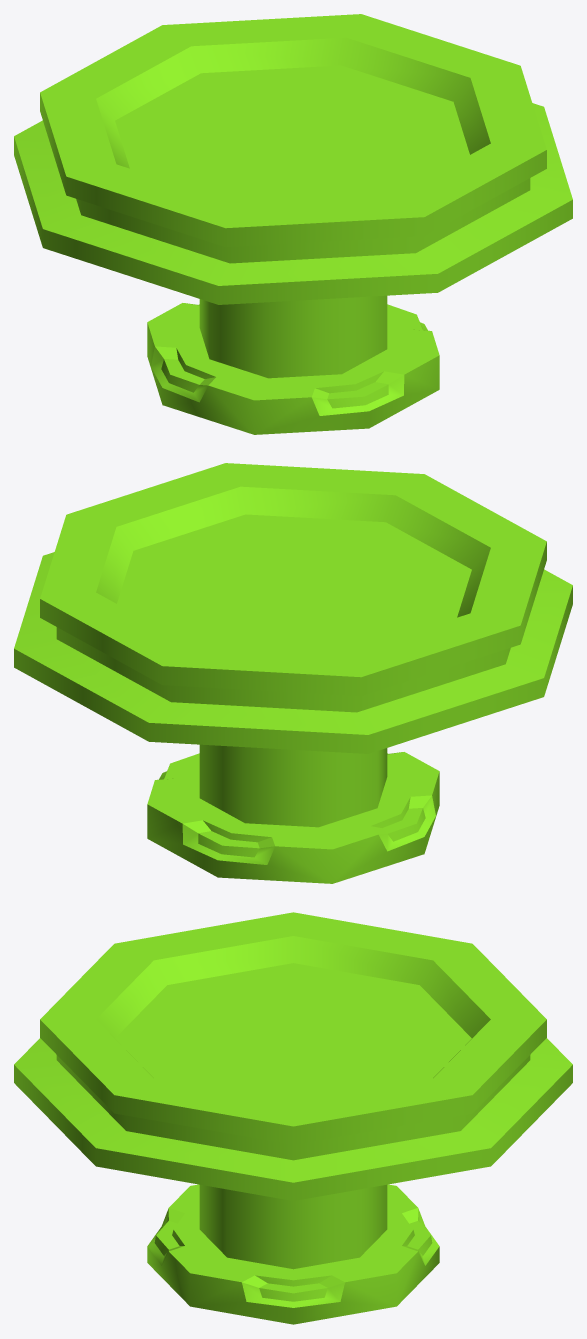
Rendered from SM_Pot.fbx.
3 renders of one model, top to bottom at view 1: azimuth 30°, elevation 25°; view 2: azimuth 150°, elevation 25°; view 3: azimuth 270°, elevation 25°, orthographic. The views are drawn at different scales.
Parts seen in each view (by area): view 1: SM_Pot; view 2: SM_Pot; view 3: SM_Pot.
Boxes of the visible parts, box(x1,y1,x2,y2) form: SM_Pot: box(14, 14, 572, 434); SM_Pot: box(14, 463, 572, 883); SM_Pot: box(14, 912, 572, 1324).
Size of the model in its own units: 229 by 110 by 229.
